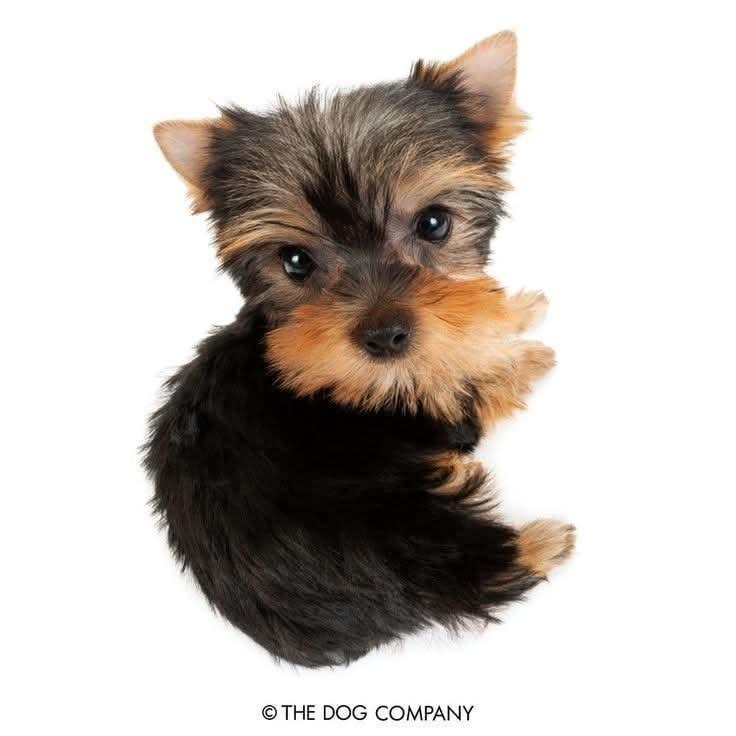puppy-dog: (134, 26, 576, 673)
